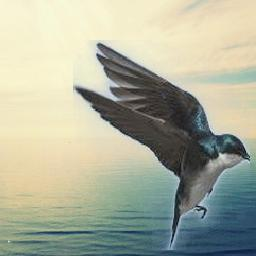Swallow: (74, 40, 251, 250)
